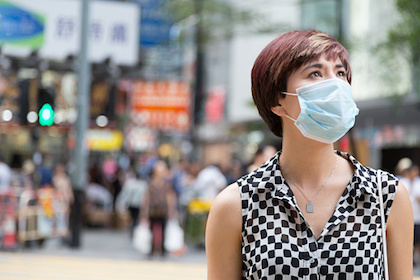surgical: (285, 77, 361, 145)
